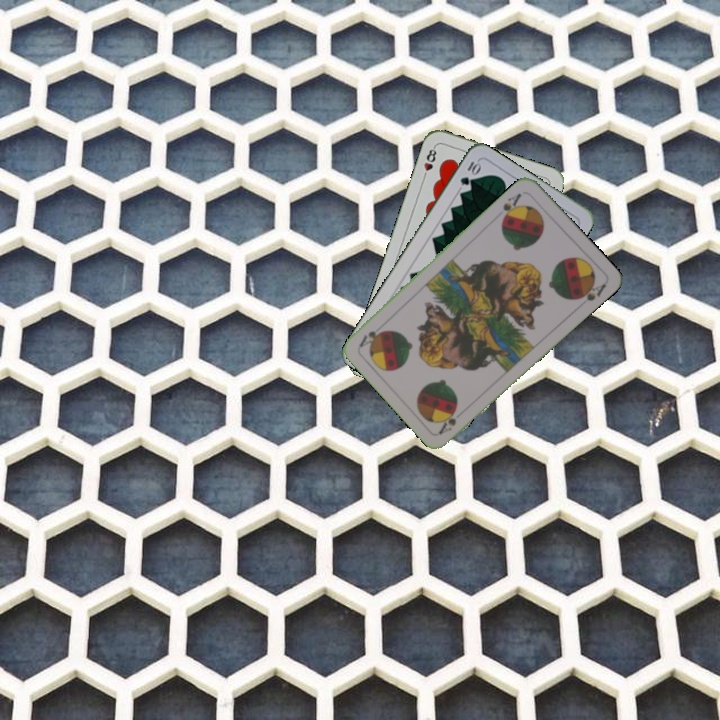G10: (456, 156, 483, 188)
H8: (419, 143, 439, 182)
SA: (435, 404, 468, 437), (498, 189, 524, 224)
